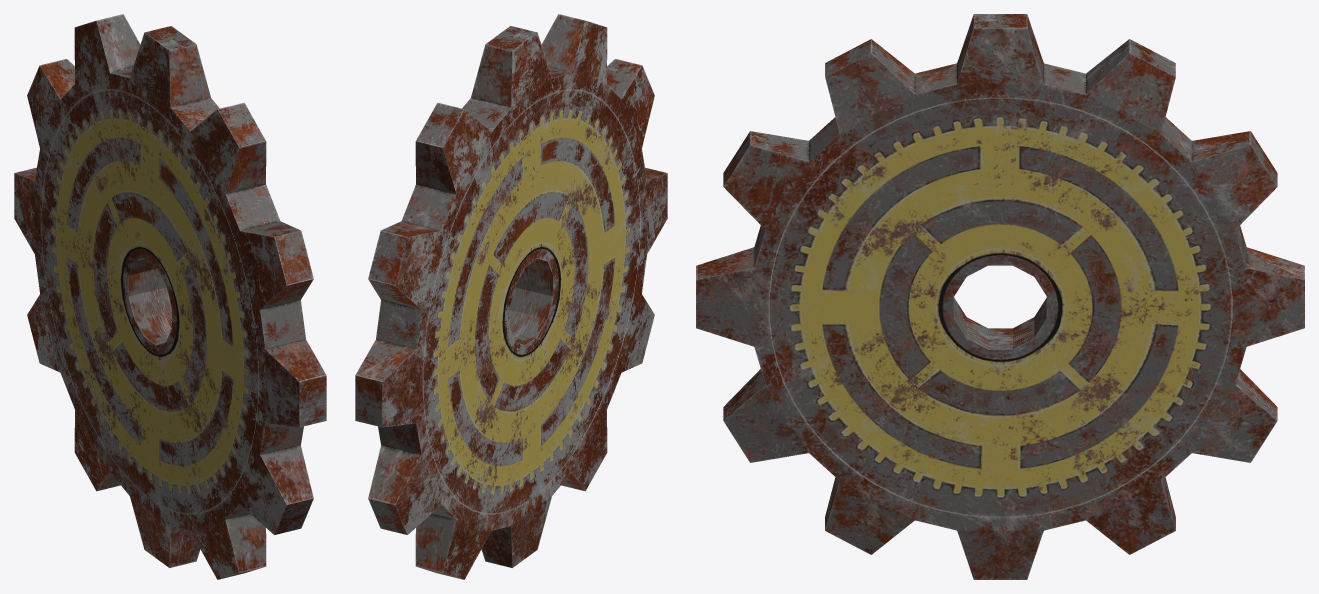
Rendered from METAL_GEAR.glb.
3 views of the same model, side by side, from view 1: azimuth 30°, elevation 25°; view 2: azimuth 150°, elevation 25°; view 3: azimuth 270°, elevation 25° (orthographic). The views are drawn at different scales.
Visible parts, largest first — view 1: GearLowPoly; view 2: GearLowPoly; view 3: GearLowPoly.
Part boxes in pixels (x1=…): GearLowPoly: x1=14, y1=14, x2=326, y2=579; GearLowPoly: x1=355, y1=14, x2=667, y2=579; GearLowPoly: x1=696, y1=14, x2=1304, y2=579.
Bounding box in the file's own units: 0.1369 × 1.67 × 1.67.
1 material, 1 textured.
